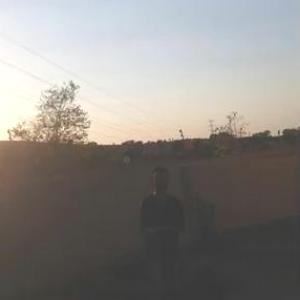follow: (131, 165, 188, 299)
